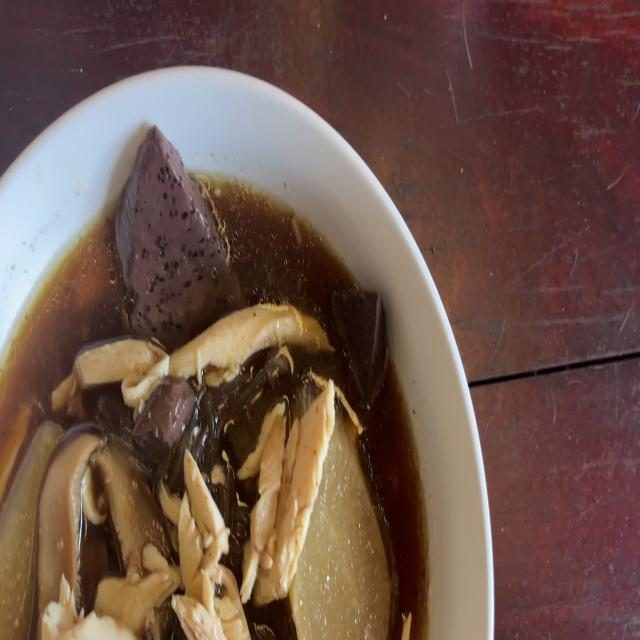noodle: (111, 122, 235, 356), (326, 274, 390, 416), (138, 376, 190, 456)
